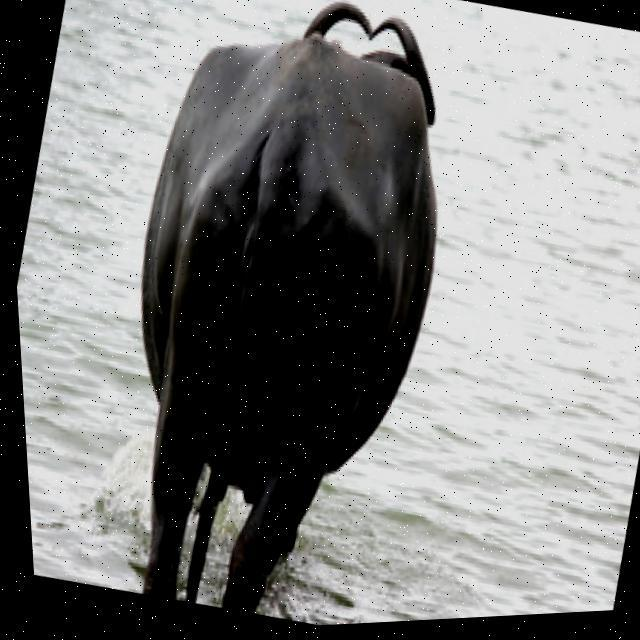Buffalo: (47, 0, 513, 638)
